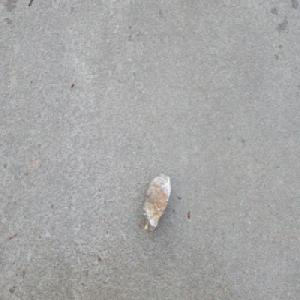Rock: (140, 172, 171, 232)
